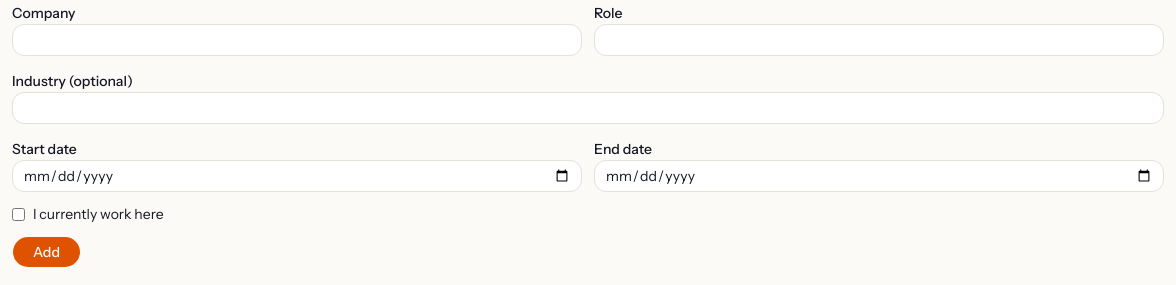
ExperienceForm › add mode: a successful add clears 'current role', so the next entry doesn't inherit it
The image size is (1176, 285).
Type "Acme" into the field labelled "Company" at (297, 40), box [12,24,582,56]
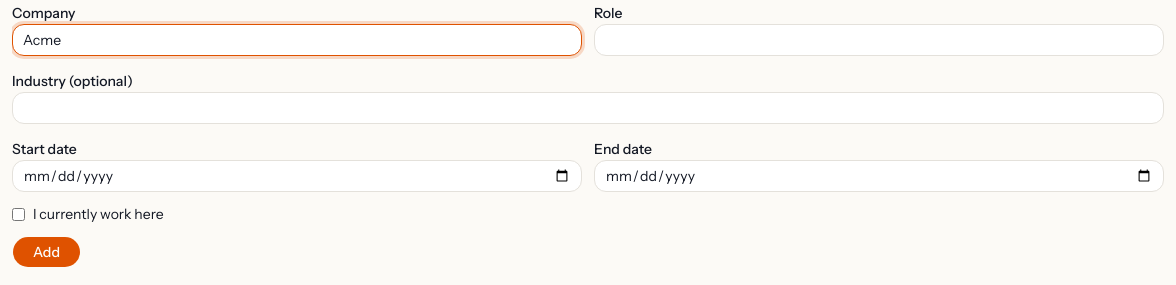
Click the checkbox labelled "I currently work here" at (18, 214), box [12,208,25,220]
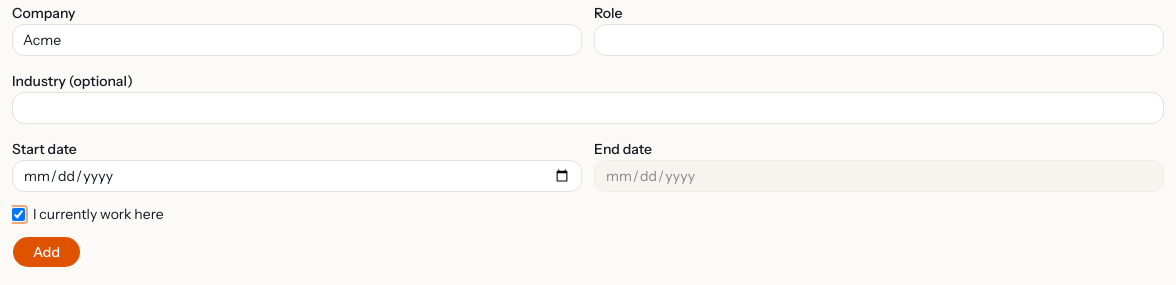
Result: the date field labelled "End date" is disabled at [594,160,1164,192]
Click the button "Add" at (46, 252), box [12,236,81,268]
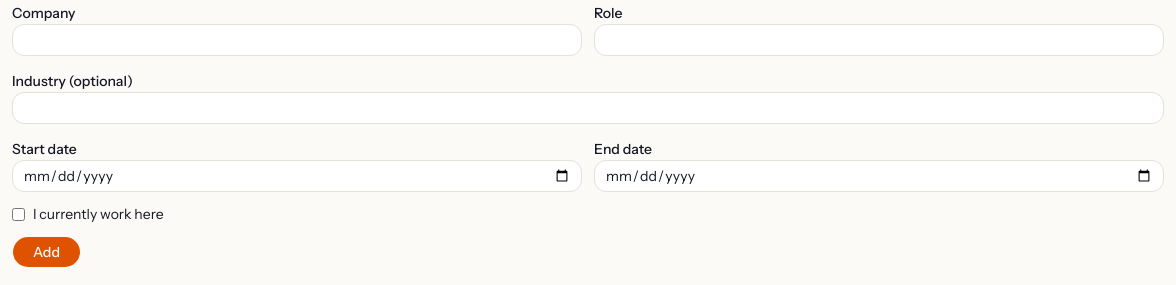
Result: the checkbox labelled "I currently work here" is not checked at [12,208,25,220]
Result: the date field labelled "End date" is enabled at [594,160,1164,192]
